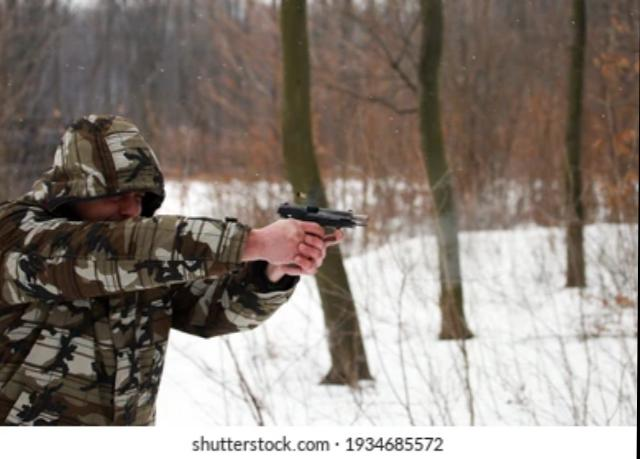tank: (0, 105, 229, 420)
